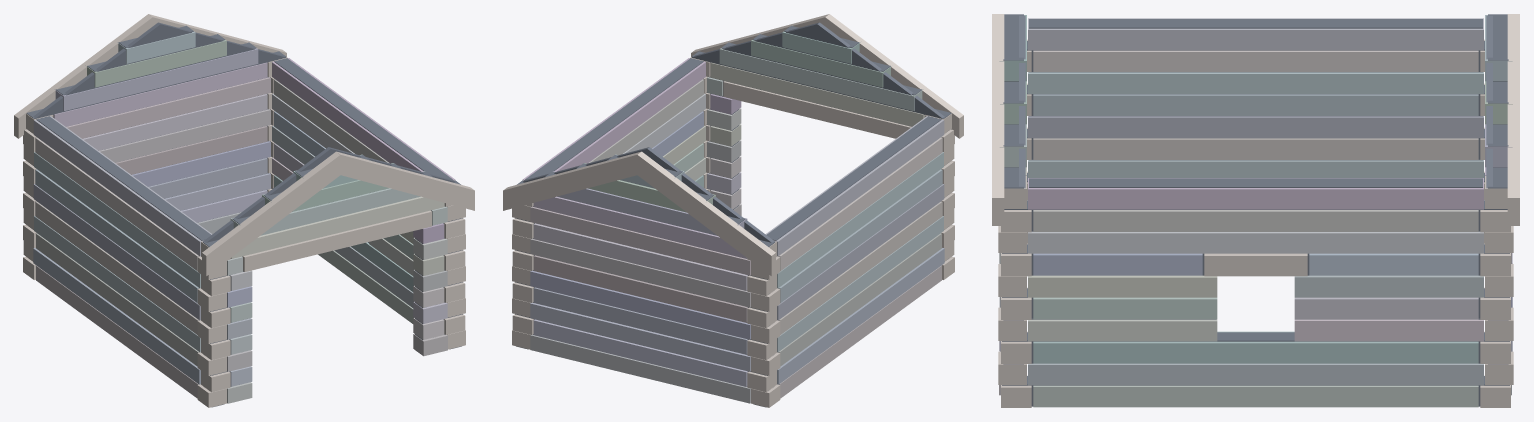
The model's file is Garage_Walls.glb.
3 renders of one model, left to right at view 1: azimuth 30°, elevation 25°; view 2: azimuth 150°, elevation 25°; view 3: azimuth 270°, elevation 25°, orthographic. The views are drawn at different scales.
Visible parts, largest first — view 1: Garage_Walls; view 2: Garage_Walls; view 3: Garage_Walls.
Boxes of the visible parts, x1,y1,x2,y2 form: Garage_Walls: [14, 14, 474, 407]; Garage_Walls: [503, 14, 963, 407]; Garage_Walls: [992, 14, 1519, 407].
Size of the model in its own units: 15.8 by 12.65 by 19.6.
